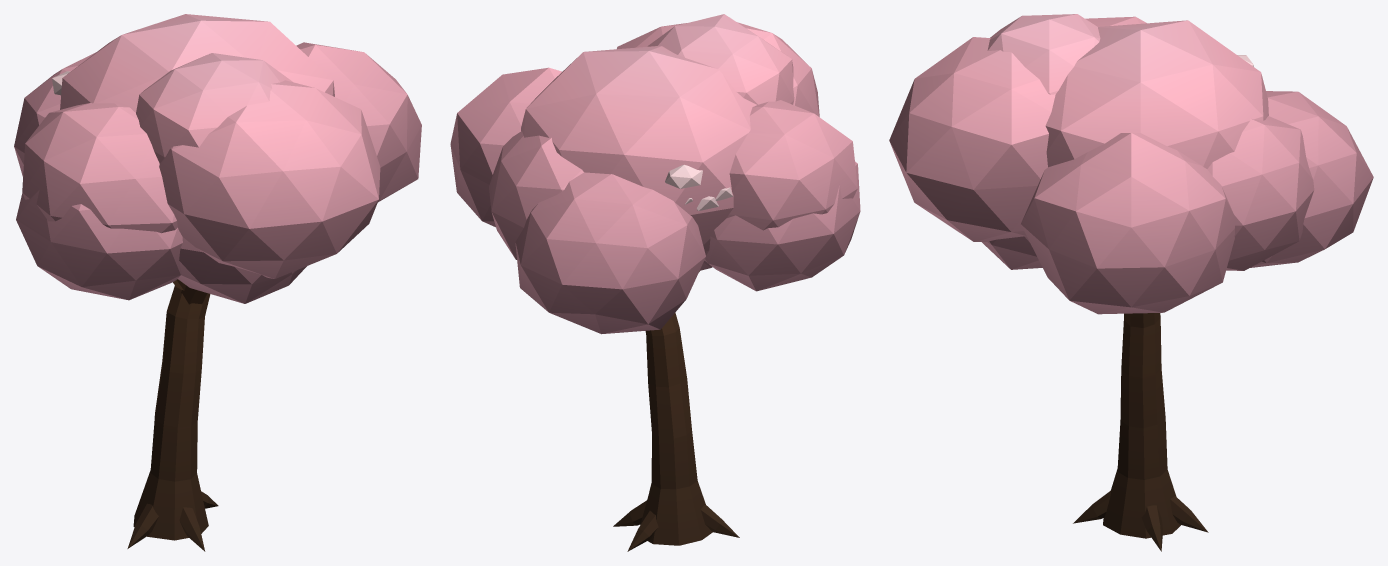
Rendered from tree_cherry_02.glb.
The picture shows the model from 3 angles, left to right: view 1: azimuth 30°, elevation 25°; view 2: azimuth 150°, elevation 25°; view 3: azimuth 270°, elevation 25°; orthographic projection. The views are drawn at different scales.
Parts seen in each view (by area): view 1: tree_cherry_02_LOD0; view 2: tree_cherry_02_LOD0; view 3: tree_cherry_02_LOD0.
Part boxes in pixels (left/top/right/bottom): tree_cherry_02_LOD0: left=14, top=14, right=421, bottom=551; tree_cherry_02_LOD0: left=450, top=14, right=860, bottom=551; tree_cherry_02_LOD0: left=889, top=14, right=1373, bottom=551.
Size of what is drawn, in the model's own units: 3.68 by 4.51 by 3.9.
Materials: 1 (1 with a texture image).
